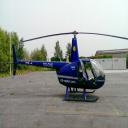helicopter: (8, 31, 116, 105)
